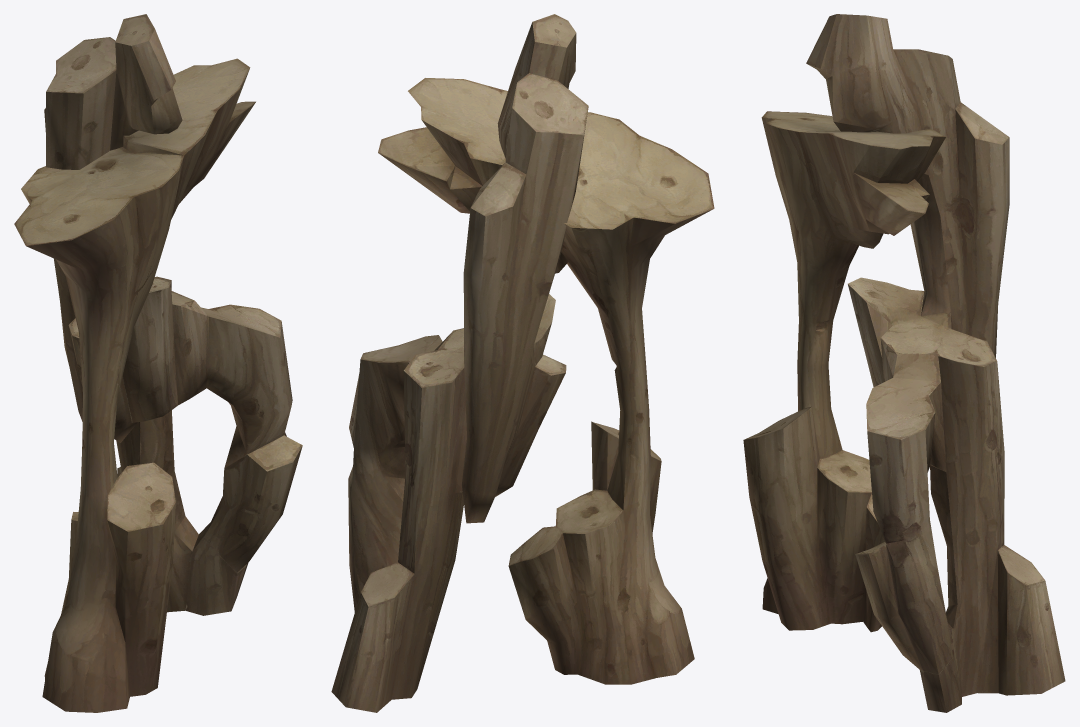
Rendered from stone50.FBX.
3 views of the same model, side by side, from view 1: azimuth 30°, elevation 25°; view 2: azimuth 150°, elevation 25°; view 3: azimuth 270°, elevation 25° (orthographic).
Parts seen in each view (by area): view 1: UD016_2, UD016_1; view 2: UD016_1, UD016_2; view 3: UD016_1, UD016_2.
Part boxes in pixels (x1,y1,x2,y2): UD016_2: (14,58,255,712); UD016_1: (44,14,302,615); UD016_1: (331,14,588,712); UD016_2: (378,78,714,684); UD016_1: (806,14,1065,712); UD016_2: (743,111,945,632).
Size of the model in its own units: 922 by 1823 by 831.
